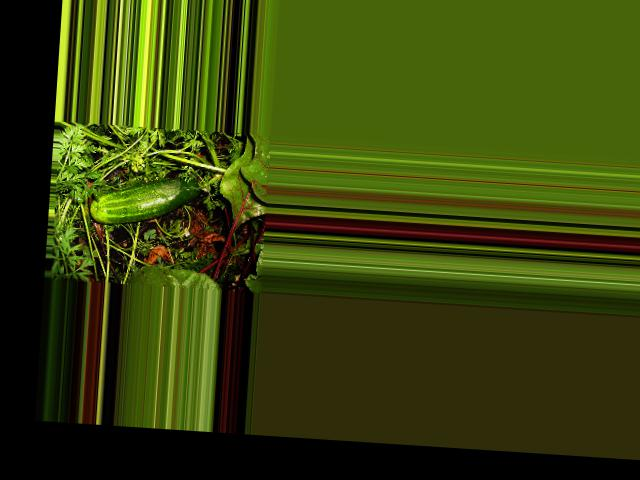cucumber: (91, 169, 202, 230)
